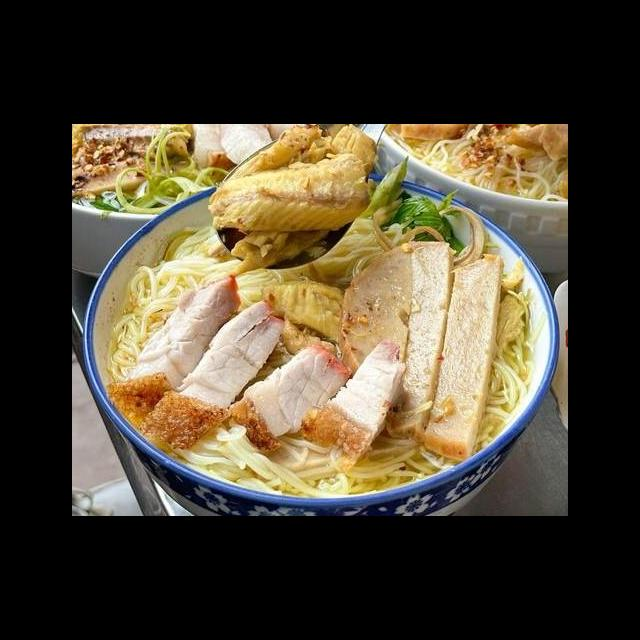bun: (164, 423, 461, 505), (97, 225, 227, 383), (472, 348, 537, 456)
bun ca: (93, 153, 568, 516)
ca: (199, 147, 383, 241), (244, 276, 355, 346)
thit heo quay: (134, 295, 289, 458), (104, 272, 244, 430), (294, 334, 412, 475), (218, 338, 354, 454)
